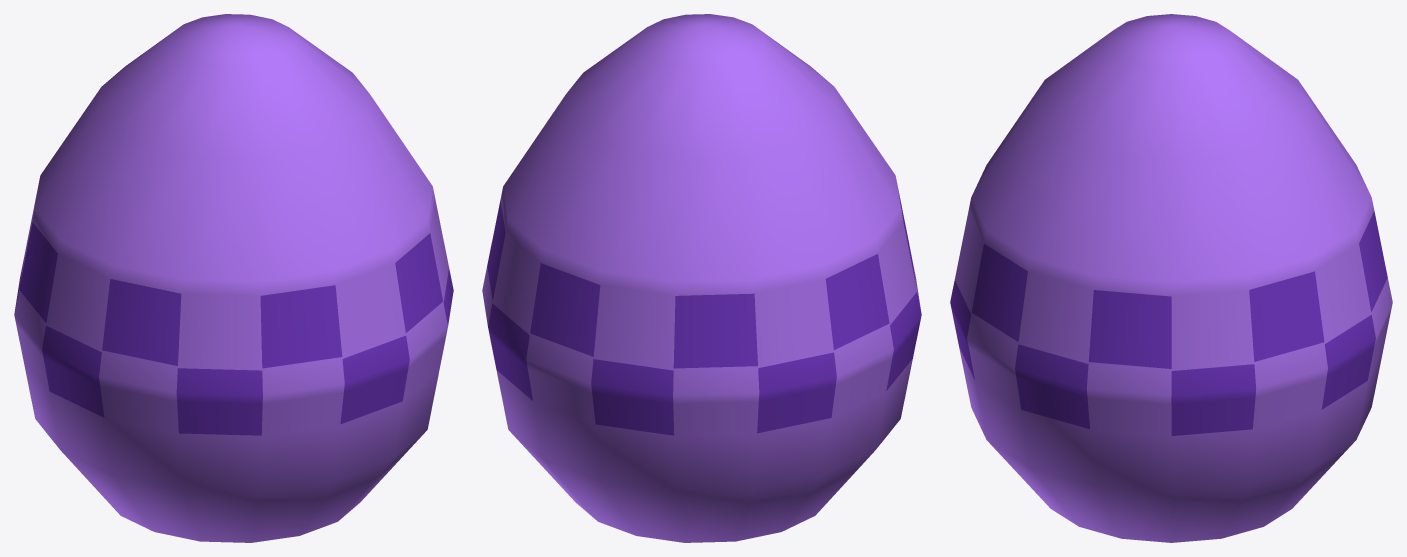
The model's file is EpicEgg.fbx.
3 views of the same model, side by side, from view 1: azimuth 30°, elevation 25°; view 2: azimuth 150°, elevation 25°; view 3: azimuth 270°, elevation 25° (orthographic).
Visible parts, largest first — view 1: EpicEgg; view 2: EpicEgg; view 3: EpicEgg.
Part boxes in pixels (x1=…): EpicEgg: x1=14, y1=14, x2=453, y2=542; EpicEgg: x1=482, y1=14, x2=921, y2=542; EpicEgg: x1=950, y1=14, x2=1392, y2=542.
Bounding box in the file's own units: 2.1 × 2.5 × 2.1.
1 material, 1 textured.
